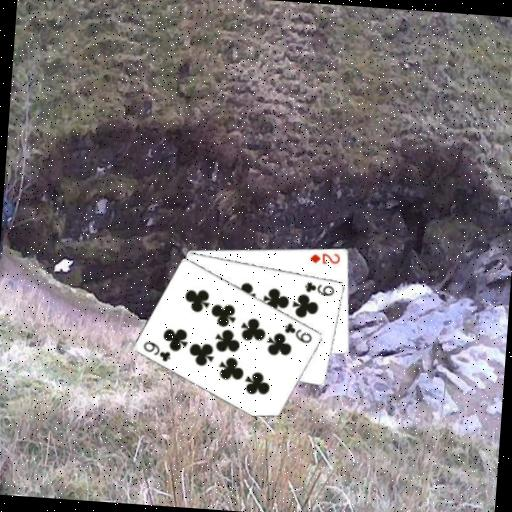2D: (307, 249, 342, 267)
9C: (281, 319, 315, 345), (139, 338, 173, 364), (301, 278, 336, 298)
